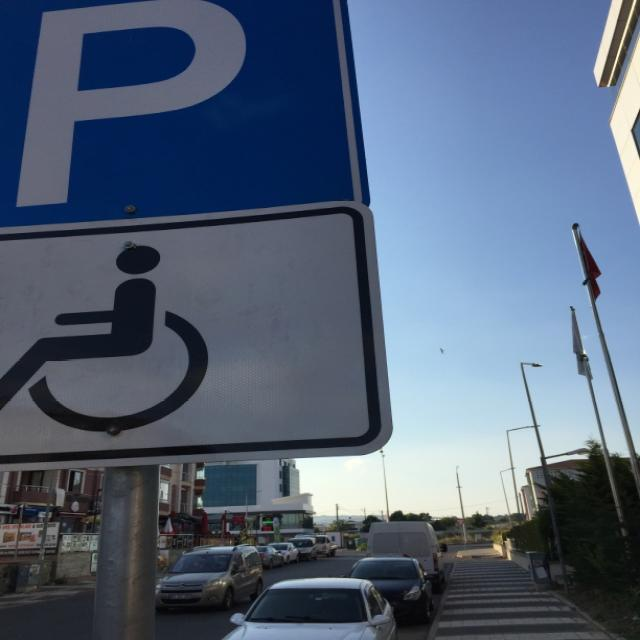park: (1, 1, 370, 209)
